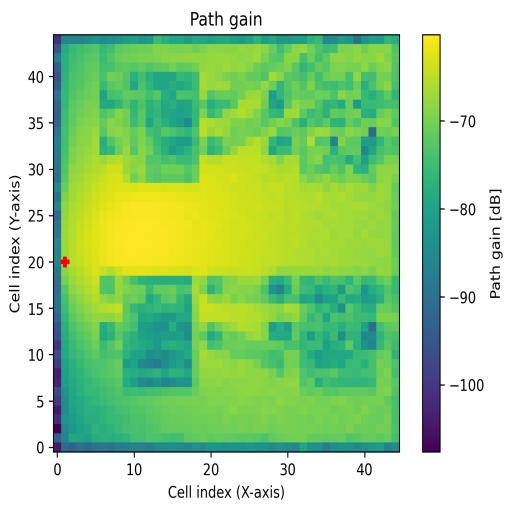Concrete: (299, 63, 376, 183)
Glass: (124, 70, 200, 184)
Metal: (300, 276, 377, 388)
Wood: (123, 276, 191, 386)
